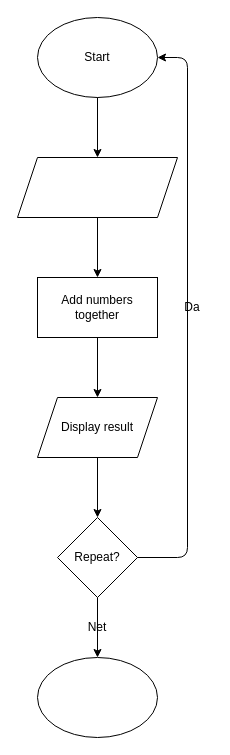
This 230x755 diagram has some shape labels left out. Each missing label, with the box of its shape:
End: (36, 656, 158, 738)
Get 2 numbers from user: (16, 156, 178, 218)
